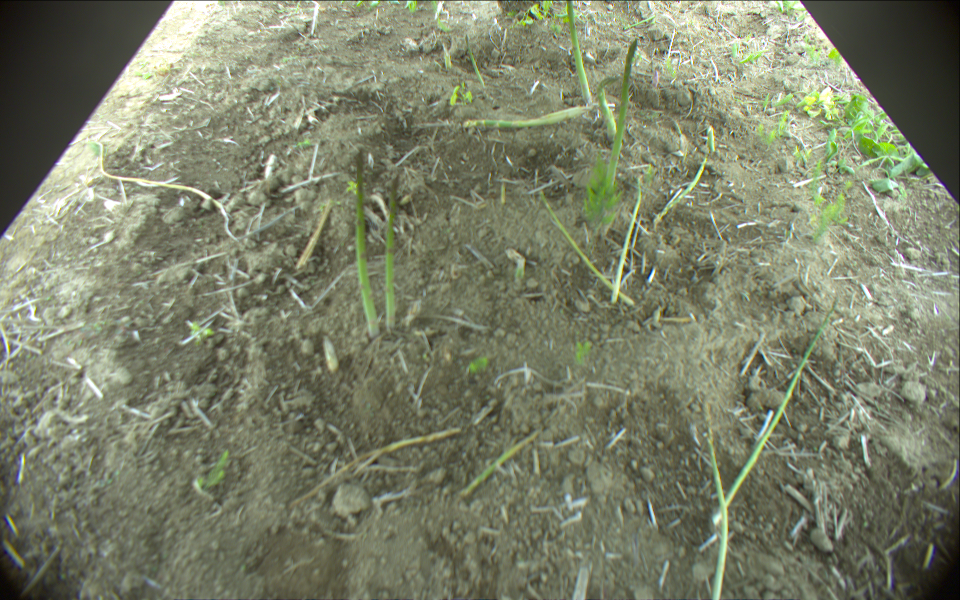aspa: (714, 289, 847, 525), (536, 193, 633, 308), (458, 429, 544, 498), (603, 38, 639, 197), (352, 148, 380, 335), (703, 403, 723, 600), (657, 154, 709, 222), (612, 192, 642, 303), (566, 1, 592, 106), (459, 107, 592, 125), (386, 173, 400, 327), (466, 35, 487, 90), (599, 89, 614, 139), (625, 11, 660, 29), (321, 337, 339, 371), (708, 122, 716, 153), (443, 45, 453, 69)
